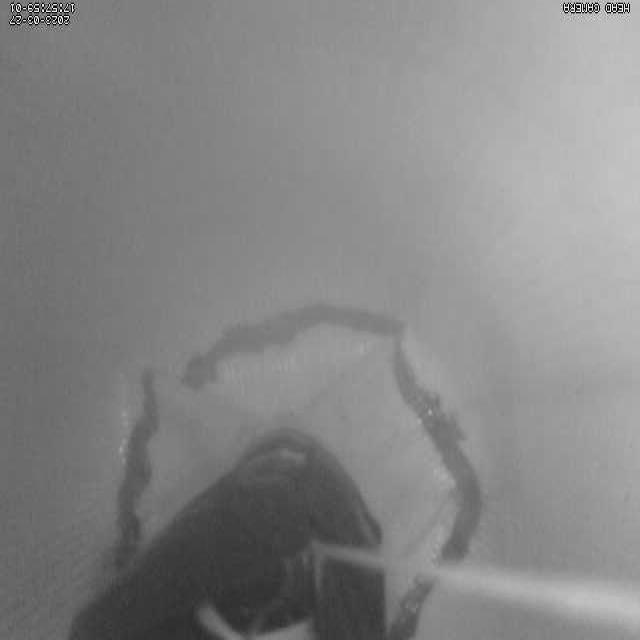red-circle: (114, 306, 484, 640)
